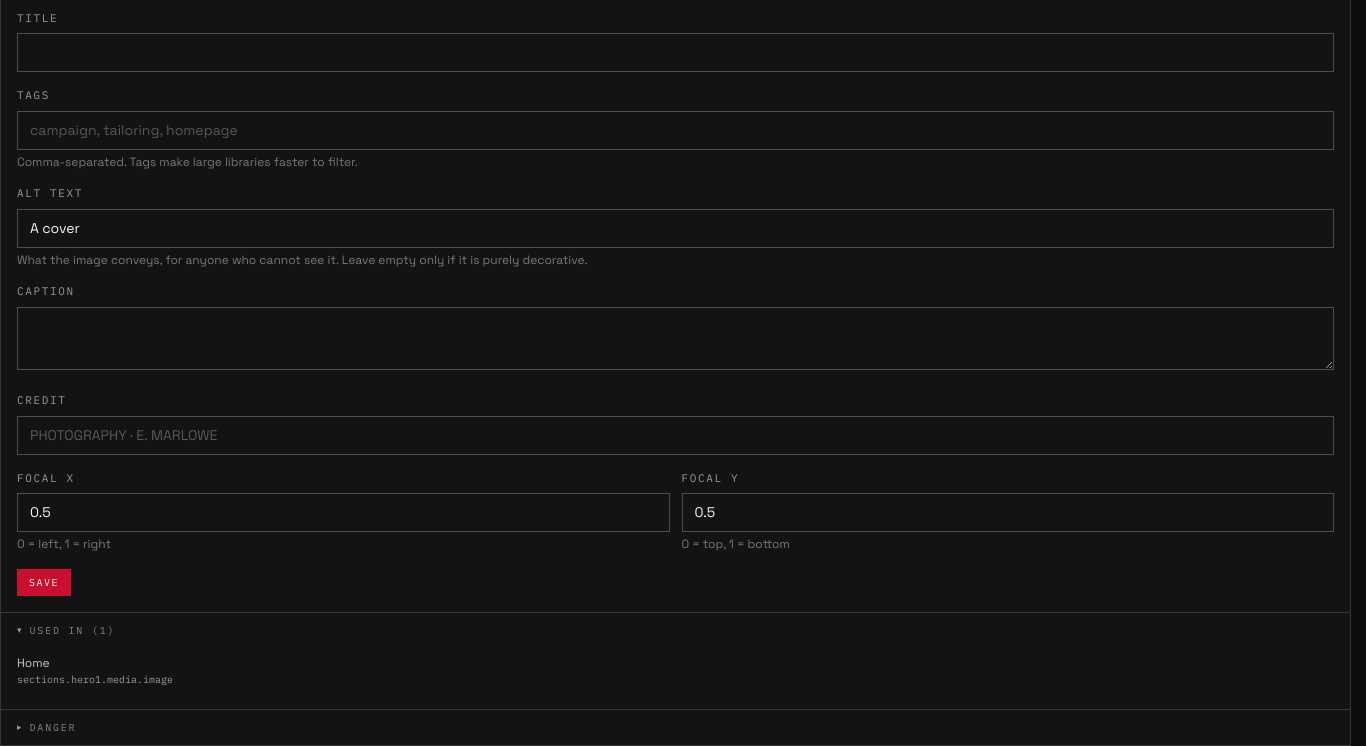
Test: AssetDetails › will not offer to delete an asset something is using
(page scrolled)
Click the button "▸ Danger" at (53, 727), box x1=17 y1=720 x2=1334 y2=735
(page scrolled)
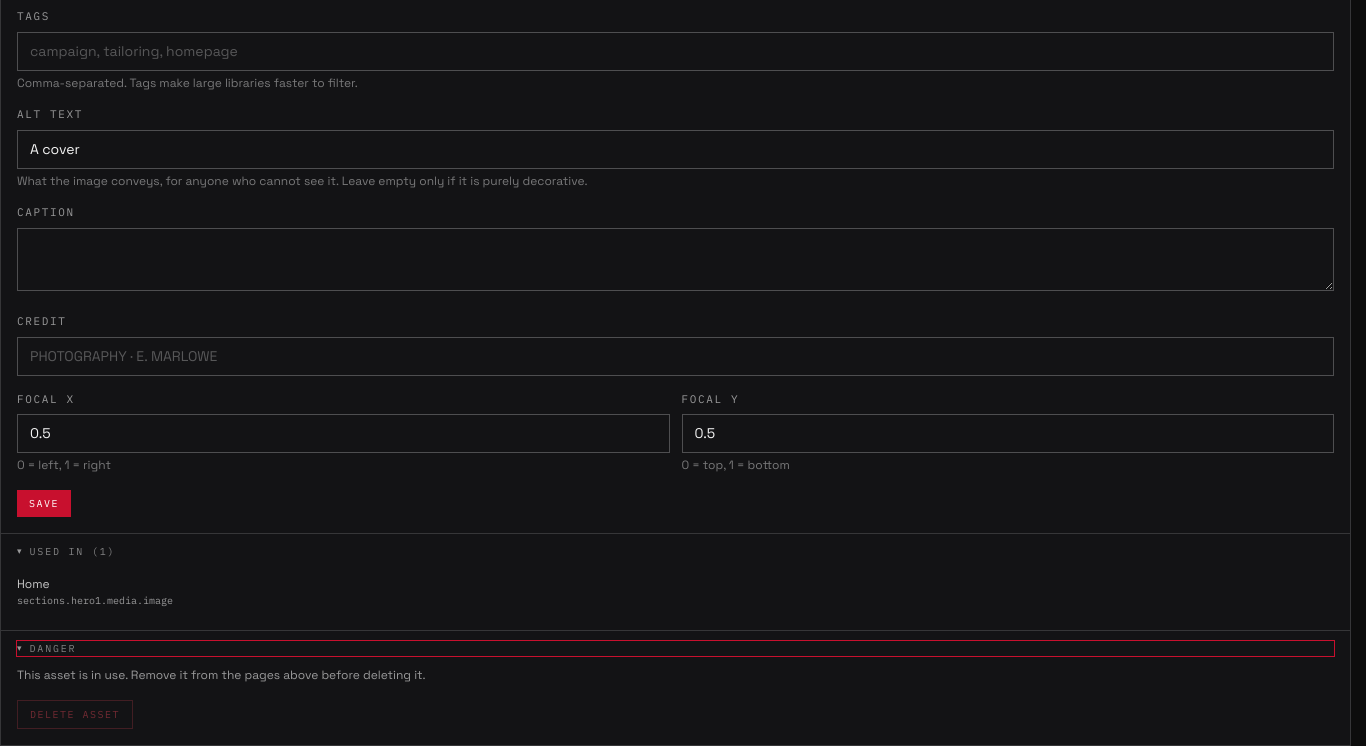
Expected: the button "Delete asset" is disabled, x1=17 y1=700 x2=133 y2=729
Expected: the text "This asset is in use" is shown, x1=17 y1=667 x2=426 y2=683
